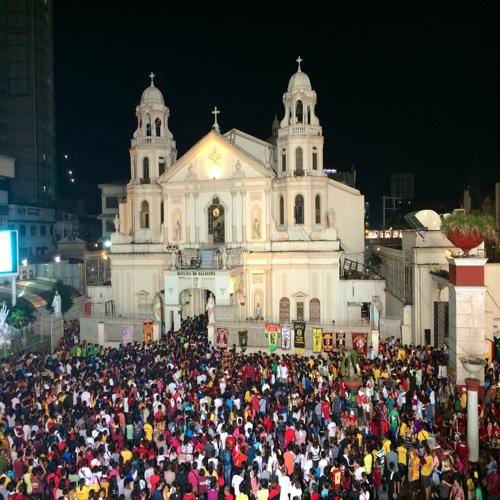Quiapo Church: (92, 56, 387, 359)
